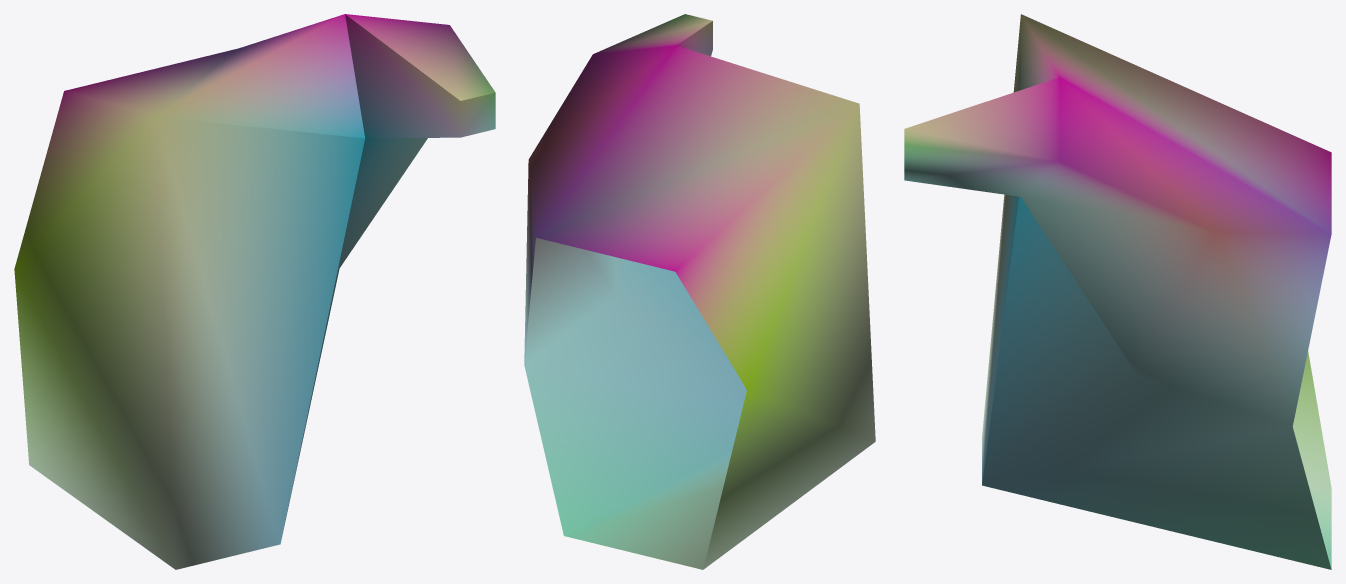
The picture shows the model from 3 angles, left to right: view 1: azimuth 30°, elevation 25°; view 2: azimuth 150°, elevation 25°; view 3: azimuth 270°, elevation 25°; orthographic projection. The views are drawn at different scales.
Parts seen in each view (by area): view 1: part; view 2: part; view 3: part.
Boxes of the visible parts, x1,y1,x2,y2 form: part: (14, 14, 495, 569); part: (524, 14, 875, 569); part: (904, 14, 1331, 569).
Size of the model in its own units: 9 by 14 by 11.
